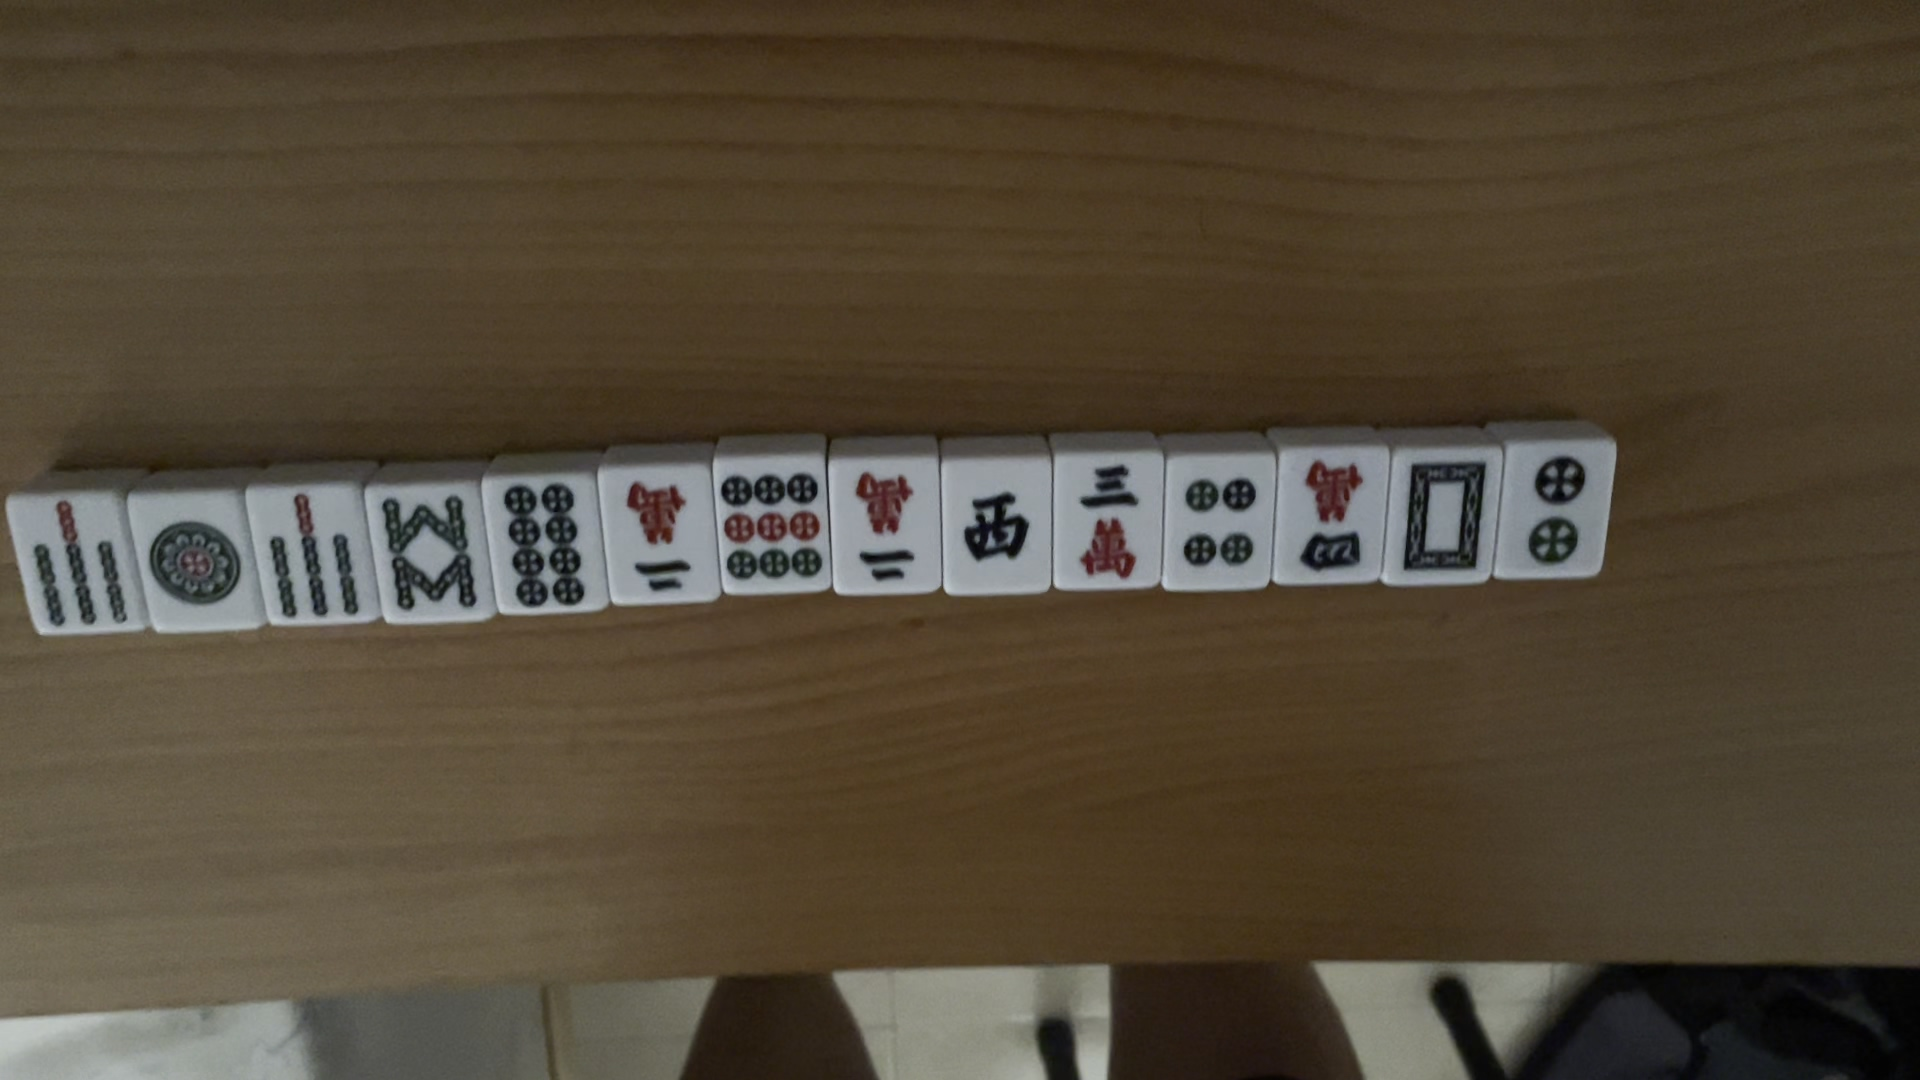b-7: (21, 493, 134, 638), (258, 486, 371, 631)
b-8: (376, 488, 478, 624)
c-2: (625, 483, 710, 601), (851, 472, 925, 591)
c-3: (1071, 464, 1145, 582)
c-4: (1299, 459, 1370, 580)
d-1: (144, 517, 247, 609)
d-2: (1518, 454, 1589, 577)
d-4: (1177, 475, 1260, 575)
d-8: (491, 479, 593, 614)
d-9: (719, 464, 825, 586)
honors-west: (957, 486, 1031, 567)
honors-white: (1394, 457, 1490, 577)
